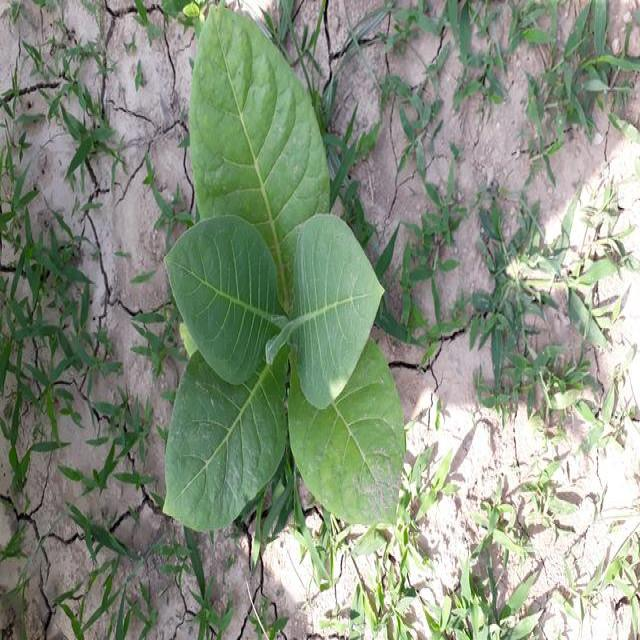crop: (160, 0, 396, 526)
